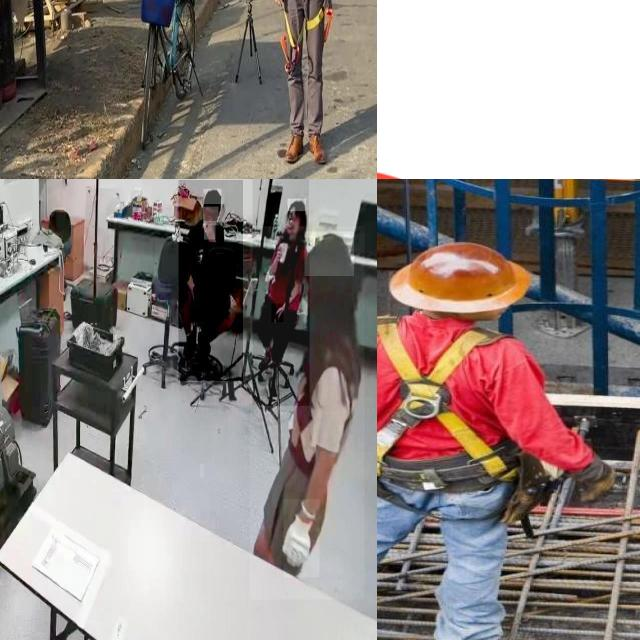Harness: (377, 318, 507, 478), (280, 2, 334, 74)
face_nomask: (203, 207, 219, 226)
hand_glove: (284, 499, 320, 578)
hand_noglove: (204, 221, 216, 240), (272, 304, 284, 323), (274, 240, 282, 262)
head_nohelmet: (304, 231, 354, 277), (204, 189, 222, 205), (288, 199, 306, 212)
person: (250, 227, 365, 600), (178, 180, 244, 382), (252, 179, 309, 405)
